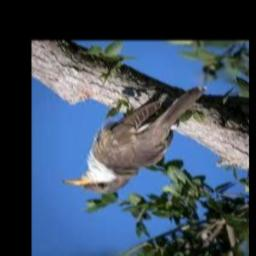Cuckoo: (61, 86, 207, 193)
